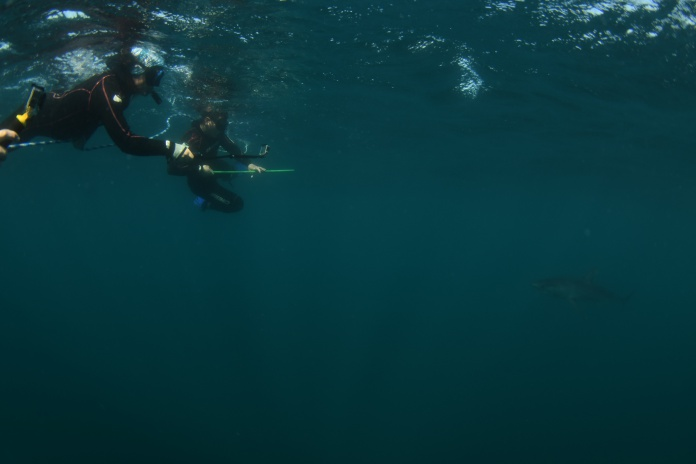Mako: (485, 243, 647, 323)
